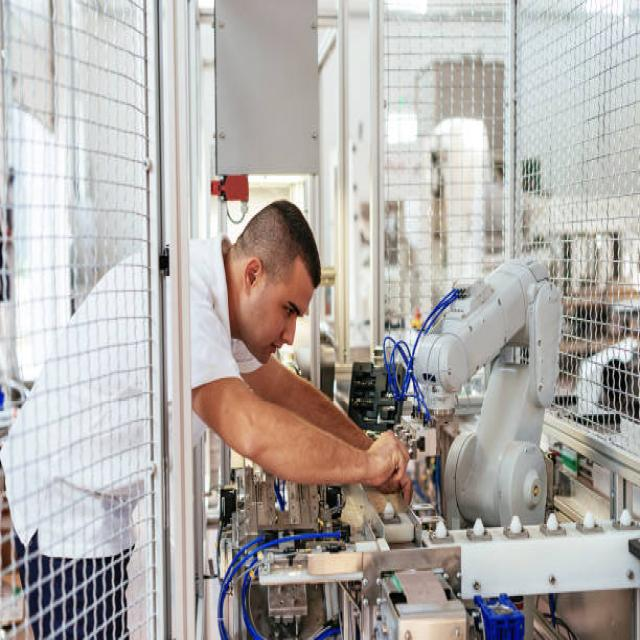Robotic-arm: (414, 247, 562, 527)
